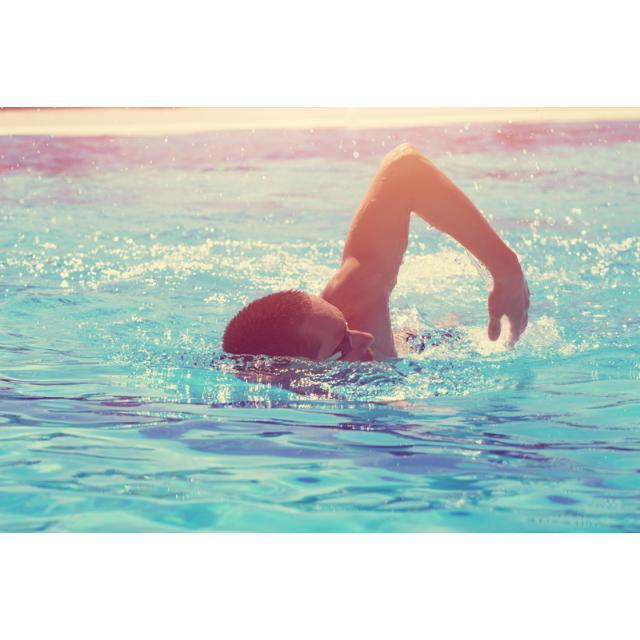human: (223, 139, 532, 367)
